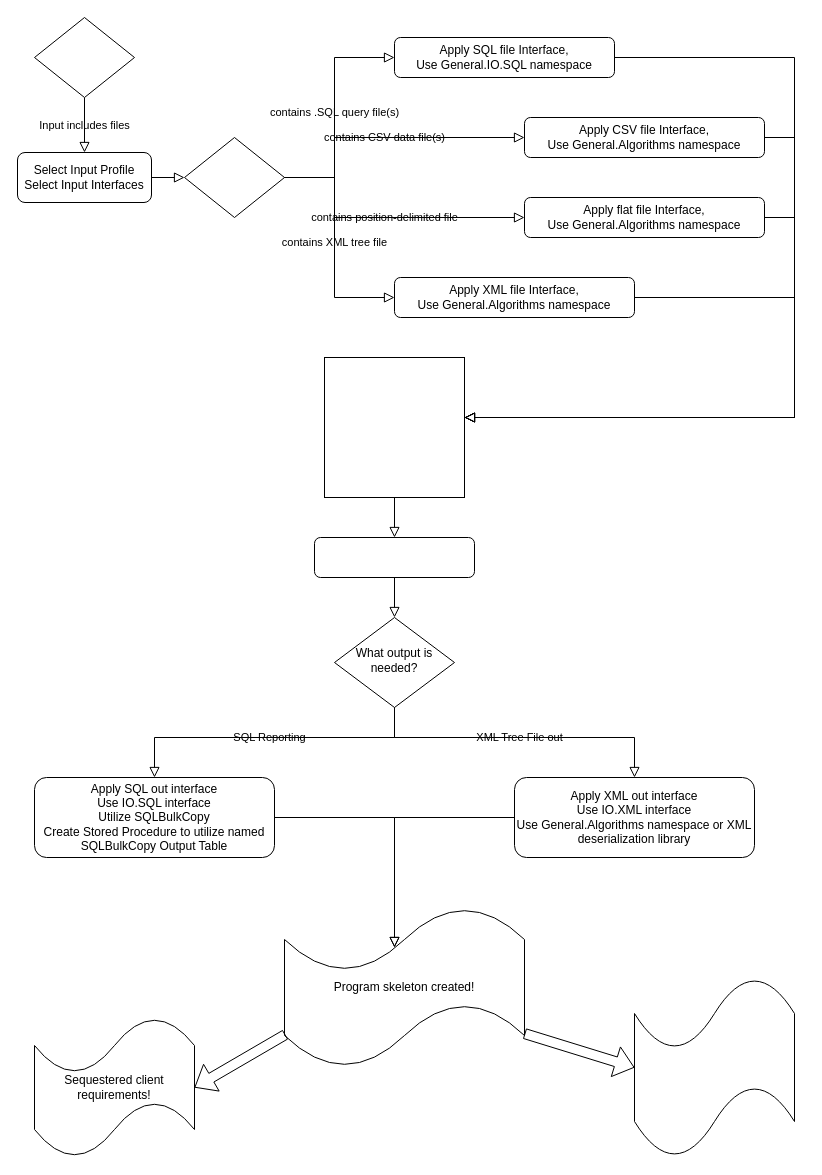
Image size: 822x1175. Some labels were removed from this diagram. Each missing label, with the centre of its shape:
Easy reproduction and modification of past implementations!: (714,1067)
File or zipfiles: (84,57)
Import data into Entity Relationship Model (LinQ to DataSet): (394,427)
Select Output Profile Select Output Interfaces: (394,557)
What kind of file?: (234,177)
